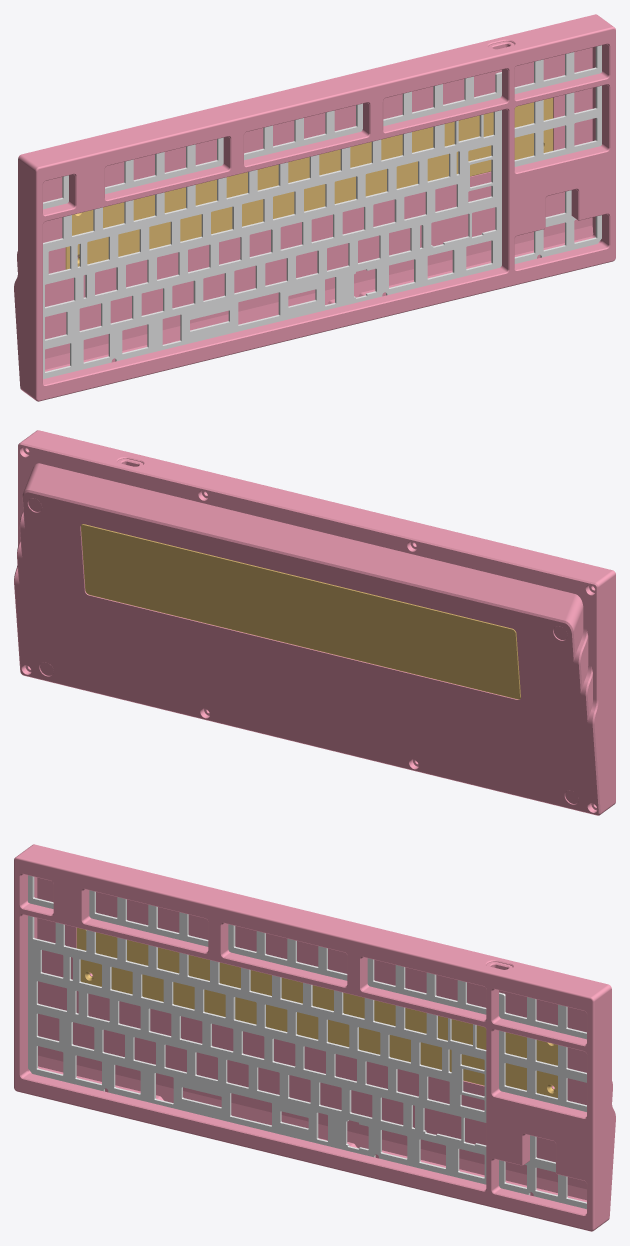
The model's file is milleatkl-millearose.fbx.
3 views of the same model, one above another, from view 1: azimuth 30°, elevation 25°; view 2: azimuth 150°, elevation 25°; view 3: azimuth 330°, elevation 25° (orthographic).
Visible parts, largest first — view 1: Plate, Top, Bottom, Weight; view 2: Bottom, Weight, Top; view 3: Plate, Top, Bottom, Weight.
Boxes of the visible parts, x1,y1,x2,y2 form: Plate: [43, 45, 601, 379]; Top: [25, 20, 615, 401]; Bottom: [14, 14, 603, 392]; Weight: [65, 97, 553, 269]; Bottom: [14, 437, 605, 815]; Weight: [81, 524, 520, 699]; Top: [27, 430, 615, 810]; Plate: [28, 875, 586, 1209]; Top: [14, 850, 604, 1231]; Bottom: [26, 844, 615, 1222]; Weight: [76, 927, 557, 1097].
Bounding box in the file's own units: 358 × 138 × 31.61.
